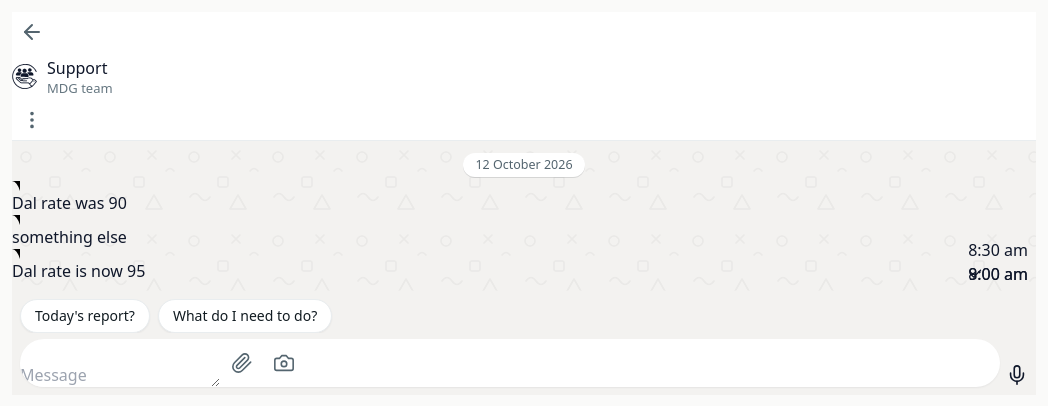
ChatPage — searching inside the chat › does not search for a single letter, and says so
Expected: the text "Dal rate is now 95" is shown, [12,260,145,282]
Click the button named "More options".
click(32, 120)  # box [12,100,52,140]
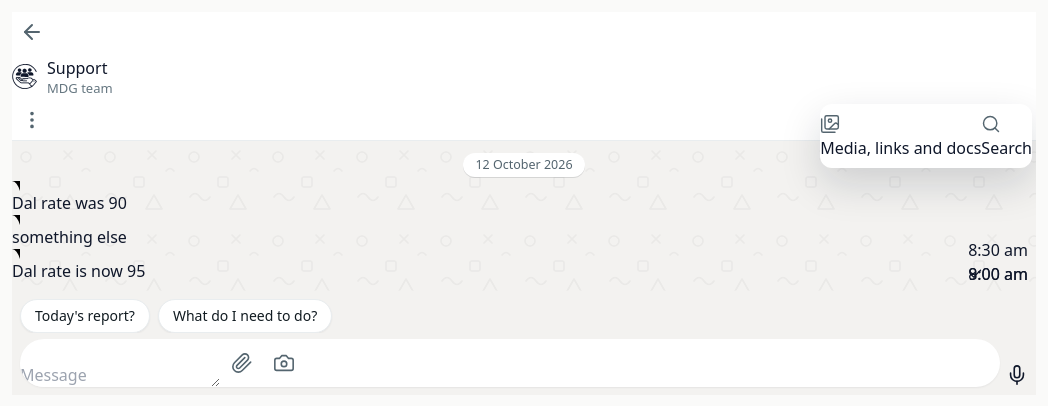
Click the menu item "Search".
click(1007, 136)  # box [981,112,1032,160]
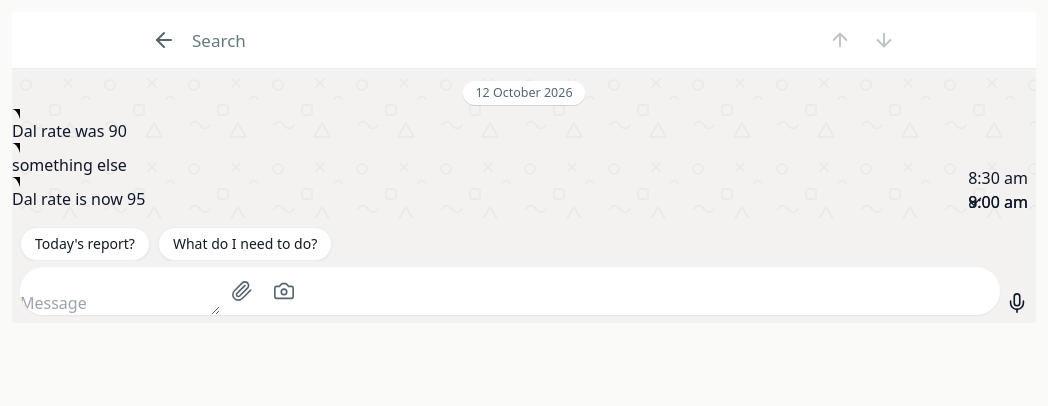
Type "r" into the search field.
click(502, 40); type("r")  # box [188,20,816,60]
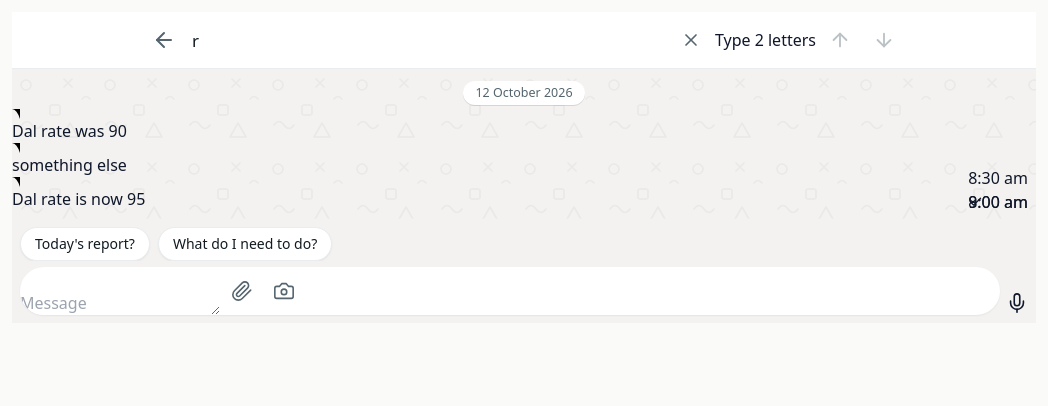
Now the text "Type 2 letters" is shown, box [715,28,816,52]
